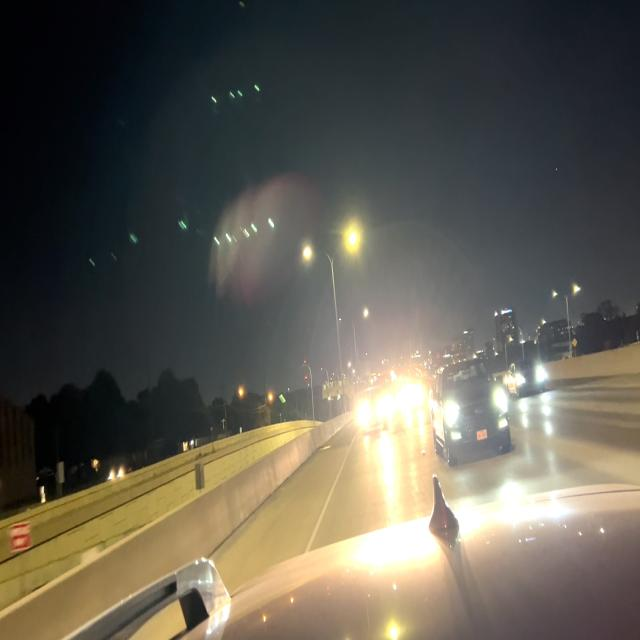back-of-sign: (194, 460, 206, 494)
